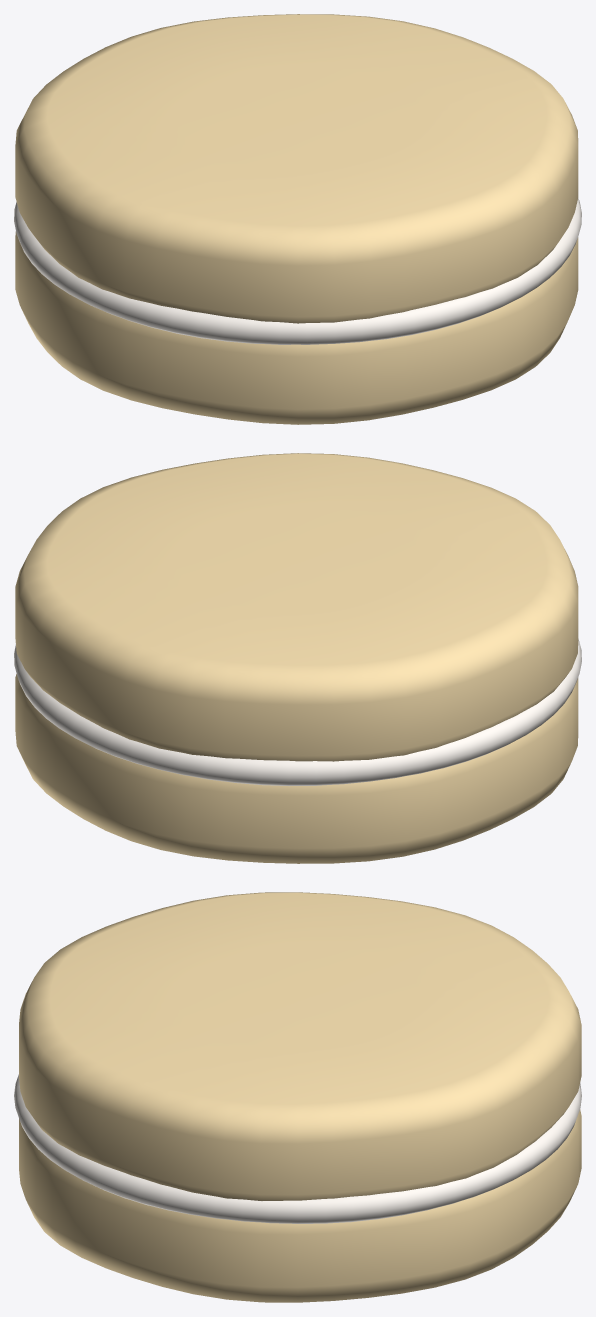
File: CakeSponge.glb
3 renders of one model, top to bottom at view 1: azimuth 30°, elevation 25°; view 2: azimuth 150°, elevation 25°; view 3: azimuth 270°, elevation 25°, orthographic.
Parts seen in each view (by area): view 1: Sponge, Filling; view 2: Sponge, Filling; view 3: Sponge, Filling.
Boxes of the visible parts, x1,y1,x2,y2 form: Sponge: (15, 14, 578, 424); Filling: (14, 198, 581, 344); Sponge: (15, 453, 578, 863); Filling: (14, 639, 581, 786); Sponge: (19, 892, 581, 1302); Filling: (14, 1074, 581, 1223).
Bounding box in the file's own units: 3.23 × 1.25 × 3.23.
